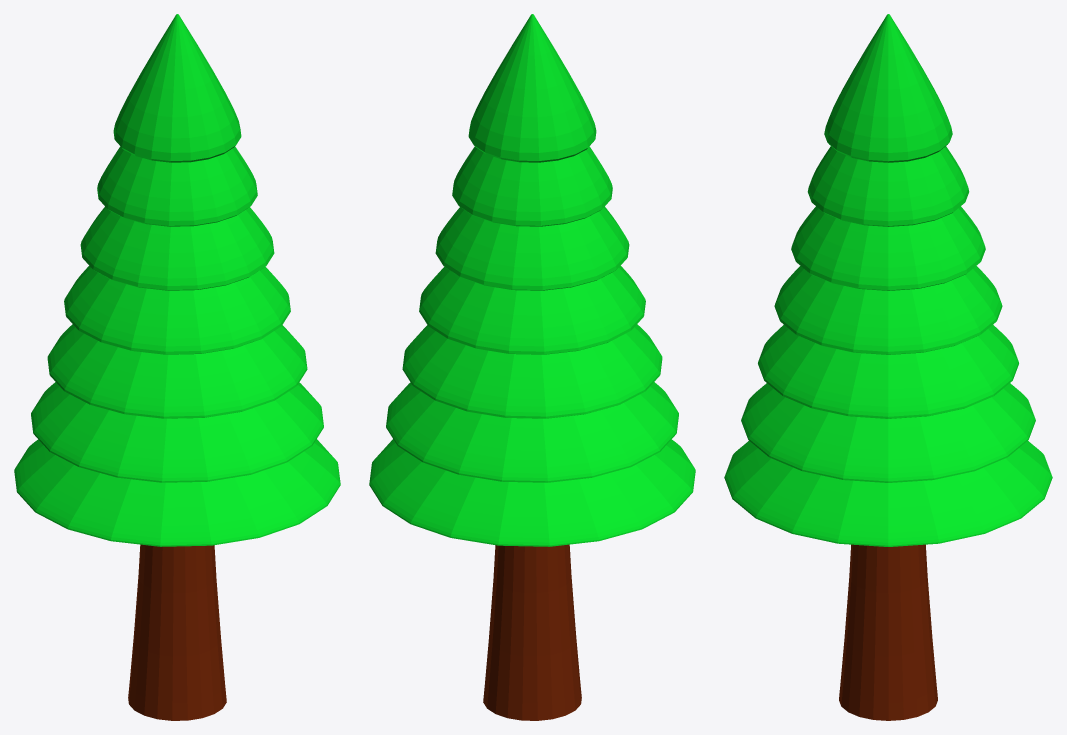
Rendered from trees 3.fbx.
3 renders of one model, left to right at view 1: azimuth 30°, elevation 25°; view 2: azimuth 150°, elevation 25°; view 3: azimuth 270°, elevation 25°, orthographic.
Parts seen in each view (by area): view 1: imagetostl_mesh0; view 2: imagetostl_mesh0; view 3: imagetostl_mesh0.
Boxes of the visible parts, box(x1,y1,x2,y2) form: imagetostl_mesh0: box(14, 14, 340, 720); imagetostl_mesh0: box(369, 14, 695, 720); imagetostl_mesh0: box(724, 14, 1052, 720).
Size of the model in its own units: 146 by 337 by 146.
